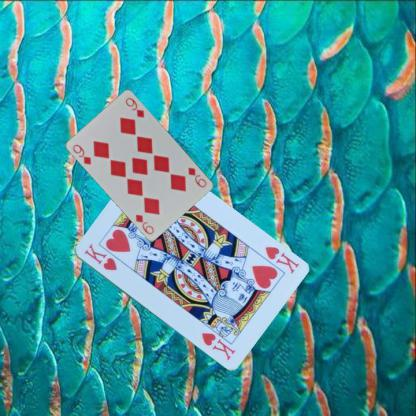9d: (185, 165, 208, 189), (70, 141, 92, 166)
Kh: (81, 240, 118, 272), (262, 244, 300, 275)
